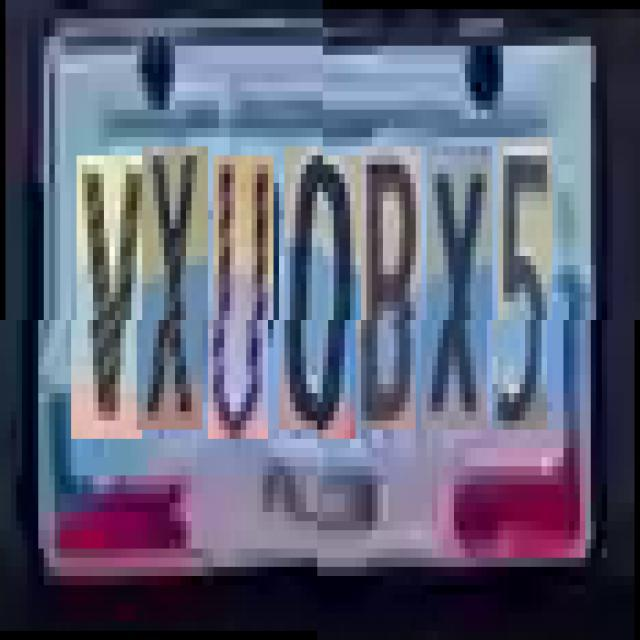5: (498, 137, 552, 430)
B: (361, 146, 421, 430)
O: (284, 155, 361, 439)
U: (214, 164, 274, 448)
V: (76, 164, 148, 448)
X: (142, 155, 208, 439), (427, 146, 492, 430)
